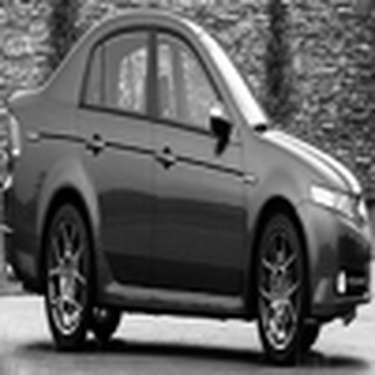car: (1, 11, 360, 352)
